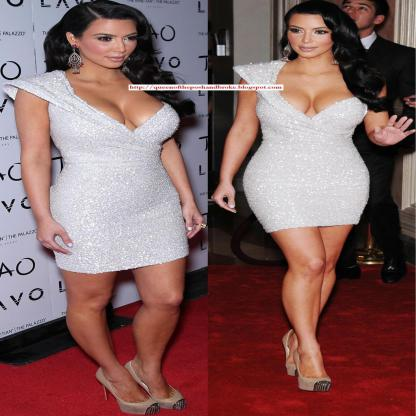face: (81, 17, 141, 70), (287, 13, 335, 58), (339, 2, 378, 29)
